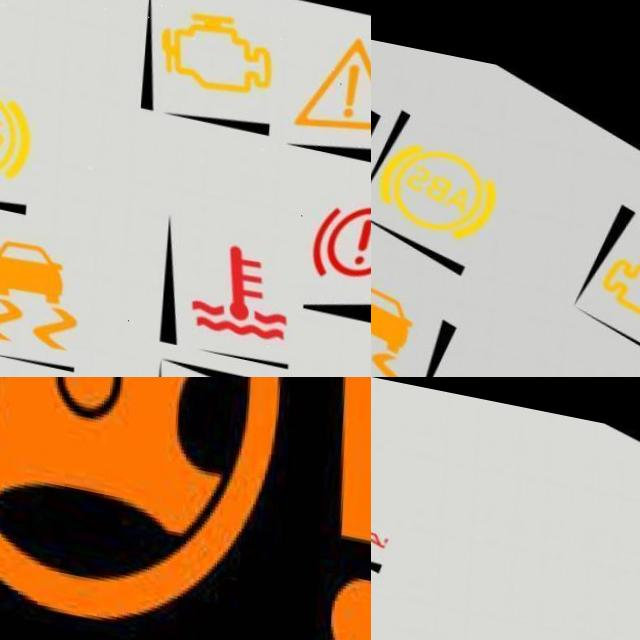Electronic Power Steering: (0, 377, 371, 640)
